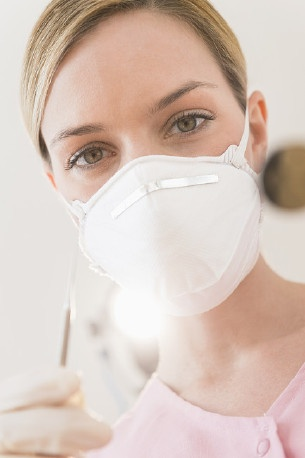Mask: (50, 79, 286, 314)
